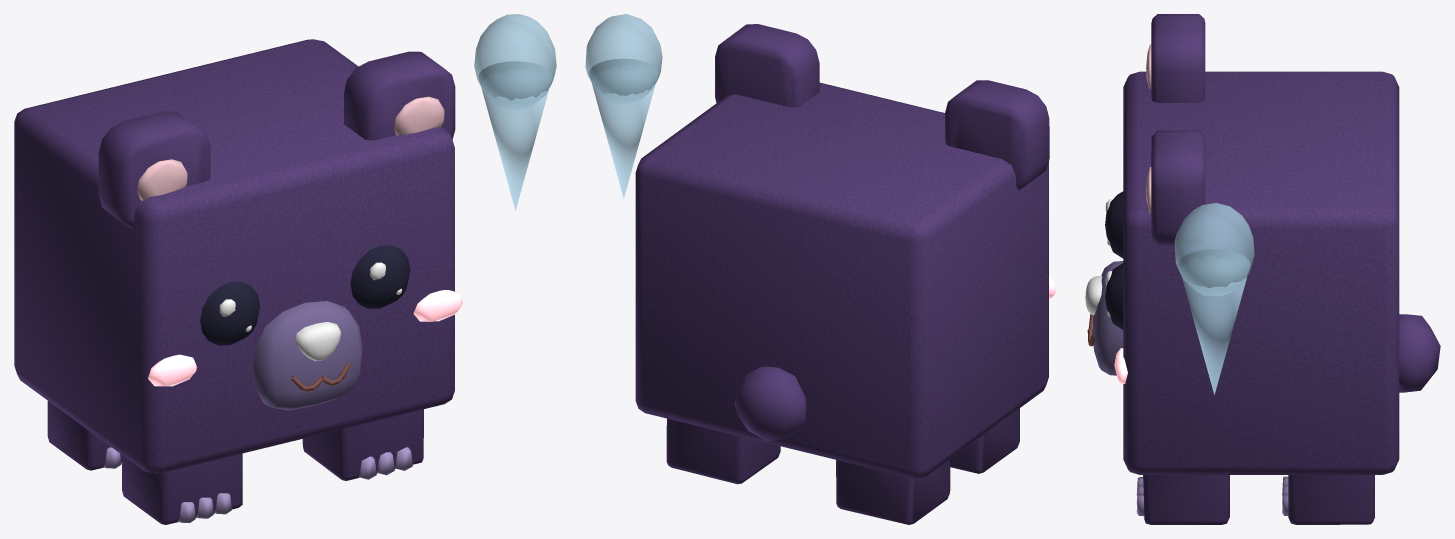
The model's file is Pet_Phantom.fbx.
The picture shows the model from 3 angles, left to right: view 1: azimuth 30°, elevation 25°; view 2: azimuth 150°, elevation 25°; view 3: azimuth 270°, elevation 25°; orthographic projection. The views are drawn at different scales.
Parts seen in each view (by area): view 1: Pet_Phantom_body, Pet_Phantom_ears, Pet_Phantom_feet, Pet_Phantom_muzzle, Pet_Phantom_acc_wisp, Pet_Phantom_acc_wisp_tail, Pet_Phantom_eyes, Pet_Phantom, Pet_Phantom_toes, Pet_Phantom_cute_innerear_-1, Pet_Phantom_nose, Pet_Phantom_cute_blush_-1; view 2: Pet_Phantom_body, Pet_Phantom_ears, Pet_Phantom_feet, Pet_Phantom_acc_wisp, Pet_Phantom_acc_wisp_tail, Pet_Phantom_cute_tail; view 3: Pet_Phantom_body, Pet_Phantom_ears, Pet_Phantom_feet, Pet_Phantom_acc_wisp, Pet_Phantom_acc_wisp_tail, Pet_Phantom_cute_tail, Pet_Phantom_eyes, Pet_Phantom_muzzle, Pet_Phantom, Pet_Phantom_toes, Pet_Phantom_nose.
Part boxes in pixels (box(x1,y1,x2,y2)): Pet_Phantom_body: box(14, 39, 454, 473); Pet_Phantom_ears: box(98, 51, 455, 228); Pet_Phantom_feet: box(47, 401, 423, 524); Pet_Phantom_muzzle: box(253, 301, 362, 410); Pet_Phantom_acc_wisp: box(474, 14, 556, 109); Pet_Phantom_acc_wisp_tail: box(479, 61, 551, 210); Pet_Phantom_eyes: box(200, 245, 410, 345); Pet_Phantom: box(370, 96, 462, 321); Pet_Phantom_toes: box(103, 447, 412, 522); Pet_Phantom_cute_innerear_-1: box(137, 159, 187, 200); Pet_Phantom_nose: box(295, 322, 341, 361); Pet_Phantom_cute_blush_-1: box(148, 354, 196, 386); Pet_Phantom_body: box(635, 82, 1048, 478); Pet_Phantom_ears: box(715, 24, 1049, 190); Pet_Phantom_feet: box(666, 408, 1019, 524); Pet_Phantom_acc_wisp: box(585, 14, 662, 104); Pet_Phantom_acc_wisp_tail: box(589, 59, 658, 198); Pet_Phantom_cute_tail: box(734, 366, 806, 440); Pet_Phantom_body: box(1123, 71, 1399, 474); Pet_Phantom_ears: box(1151, 14, 1205, 245); Pet_Phantom_feet: box(1143, 475, 1374, 524); Pet_Phantom_acc_wisp: box(1174, 203, 1254, 296); Pet_Phantom_acc_wisp_tail: box(1178, 249, 1250, 395); Pet_Phantom_cute_tail: box(1399, 314, 1440, 392); Pet_Phantom_eyes: box(1105, 191, 1123, 329); Pet_Phantom_muzzle: box(1093, 261, 1123, 375); Pet_Phantom: box(1105, 166, 1151, 383); Pet_Phantom_toes: box(1136, 476, 1288, 516); Pet_Phantom_nose: box(1085, 276, 1102, 315).
Size of the model in its own units: 3.22 by 2.62 by 2.21.
13 materials, 5 textured.
